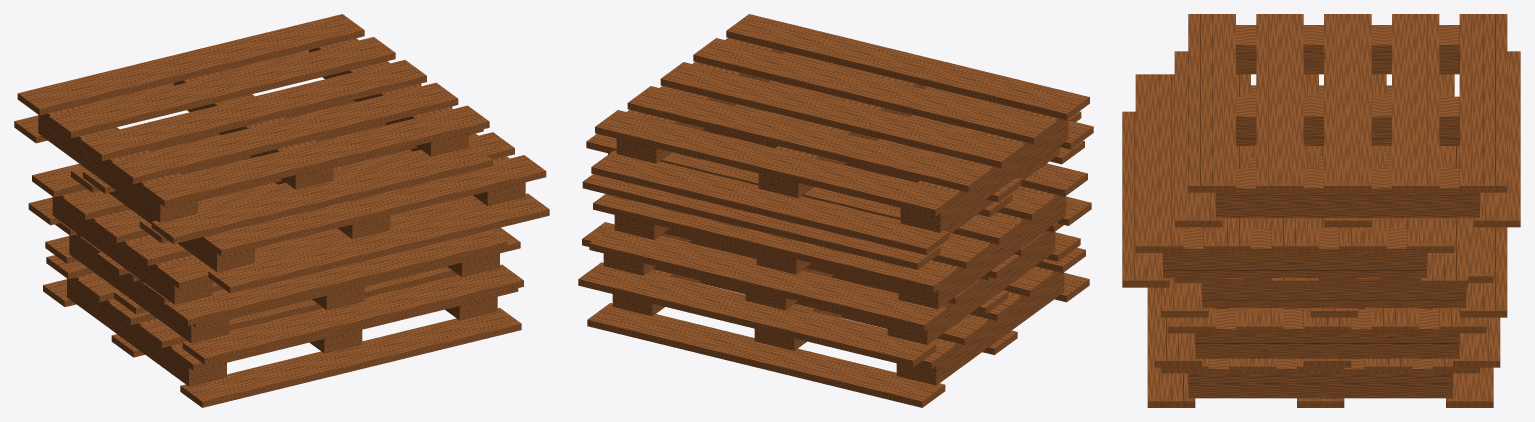
The model's file is self-storage-facility-and-loading-bay-self-storage-fac-1204bf59__34717.glb.
The picture shows the model from 3 angles, left to right: view 1: azimuth 30°, elevation 25°; view 2: azimuth 150°, elevation 25°; view 3: azimuth 270°, elevation 25°; orthographic projection. The views are drawn at different scales.
Visible parts, largest first — view 1: self-storage-facility-and-loading-bay-pallet-stack; view 2: self-storage-facility-and-loading-bay-pallet-stack; view 3: self-storage-facility-and-loading-bay-pallet-stack.
Boxes of the visible parts, x1=… form: self-storage-facility-and-loading-bay-pallet-stack: x1=14, y1=14, x2=549, y2=407; self-storage-facility-and-loading-bay-pallet-stack: x1=578, y1=14, x2=1093, y2=407; self-storage-facility-and-loading-bay-pallet-stack: x1=1122, y1=14, x2=1520, y2=407.
Size of the model in its own units: 1.32 by 0.6991 by 1.17.
1 material, 1 textured.
